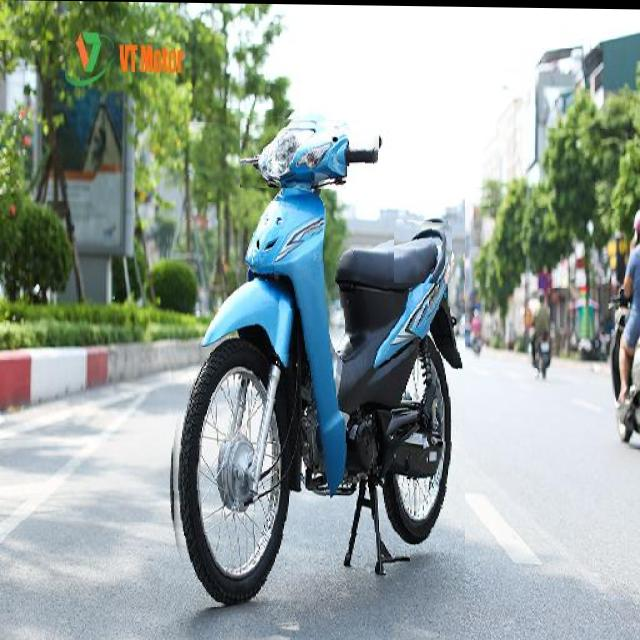All: (165, 107, 465, 610)
Head: (240, 115, 380, 189)
Tail: (394, 217, 452, 282)
